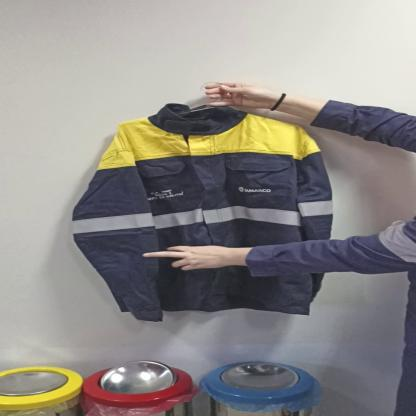C_eletrica: (68, 111, 340, 323)
